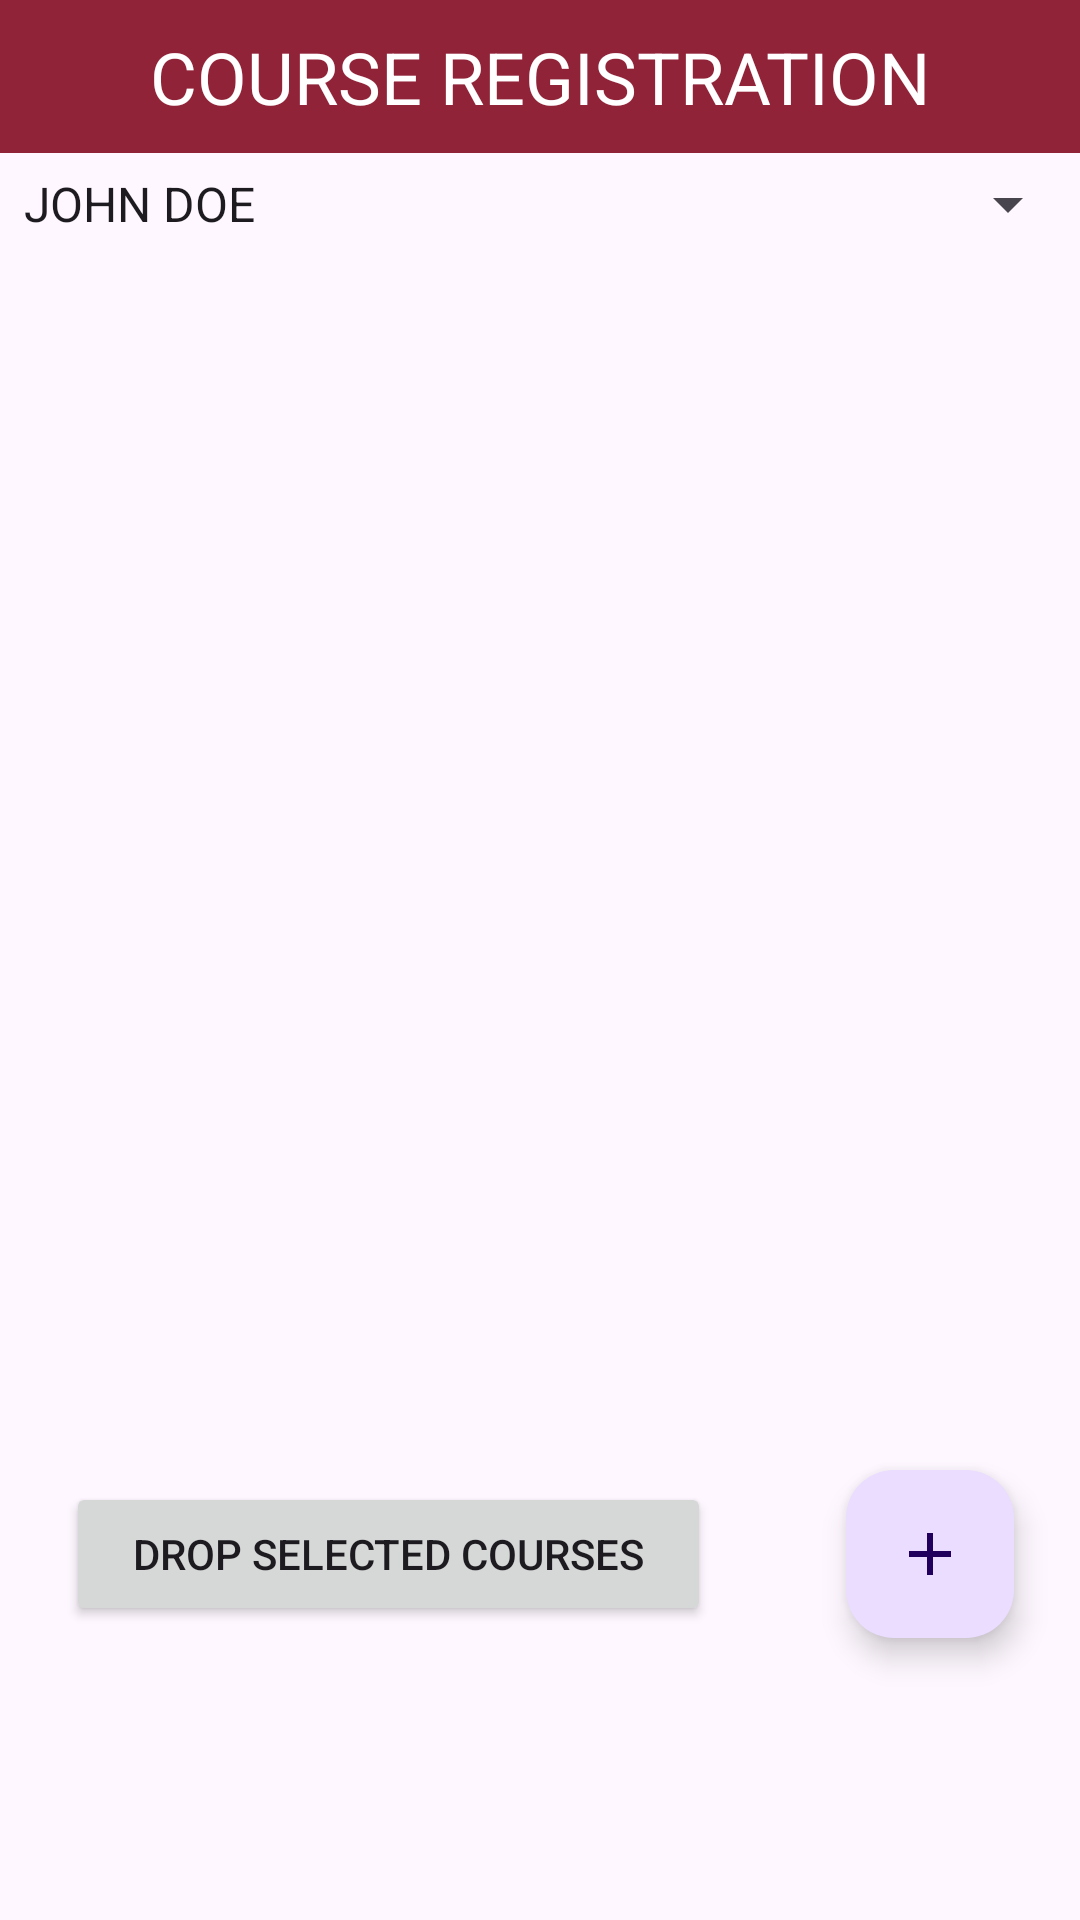

Icon bounding boxes for this 1080px x 1920px phone screenshot, format [x1, y1, x2, y2]:
add: [846, 1470, 1014, 1638]
